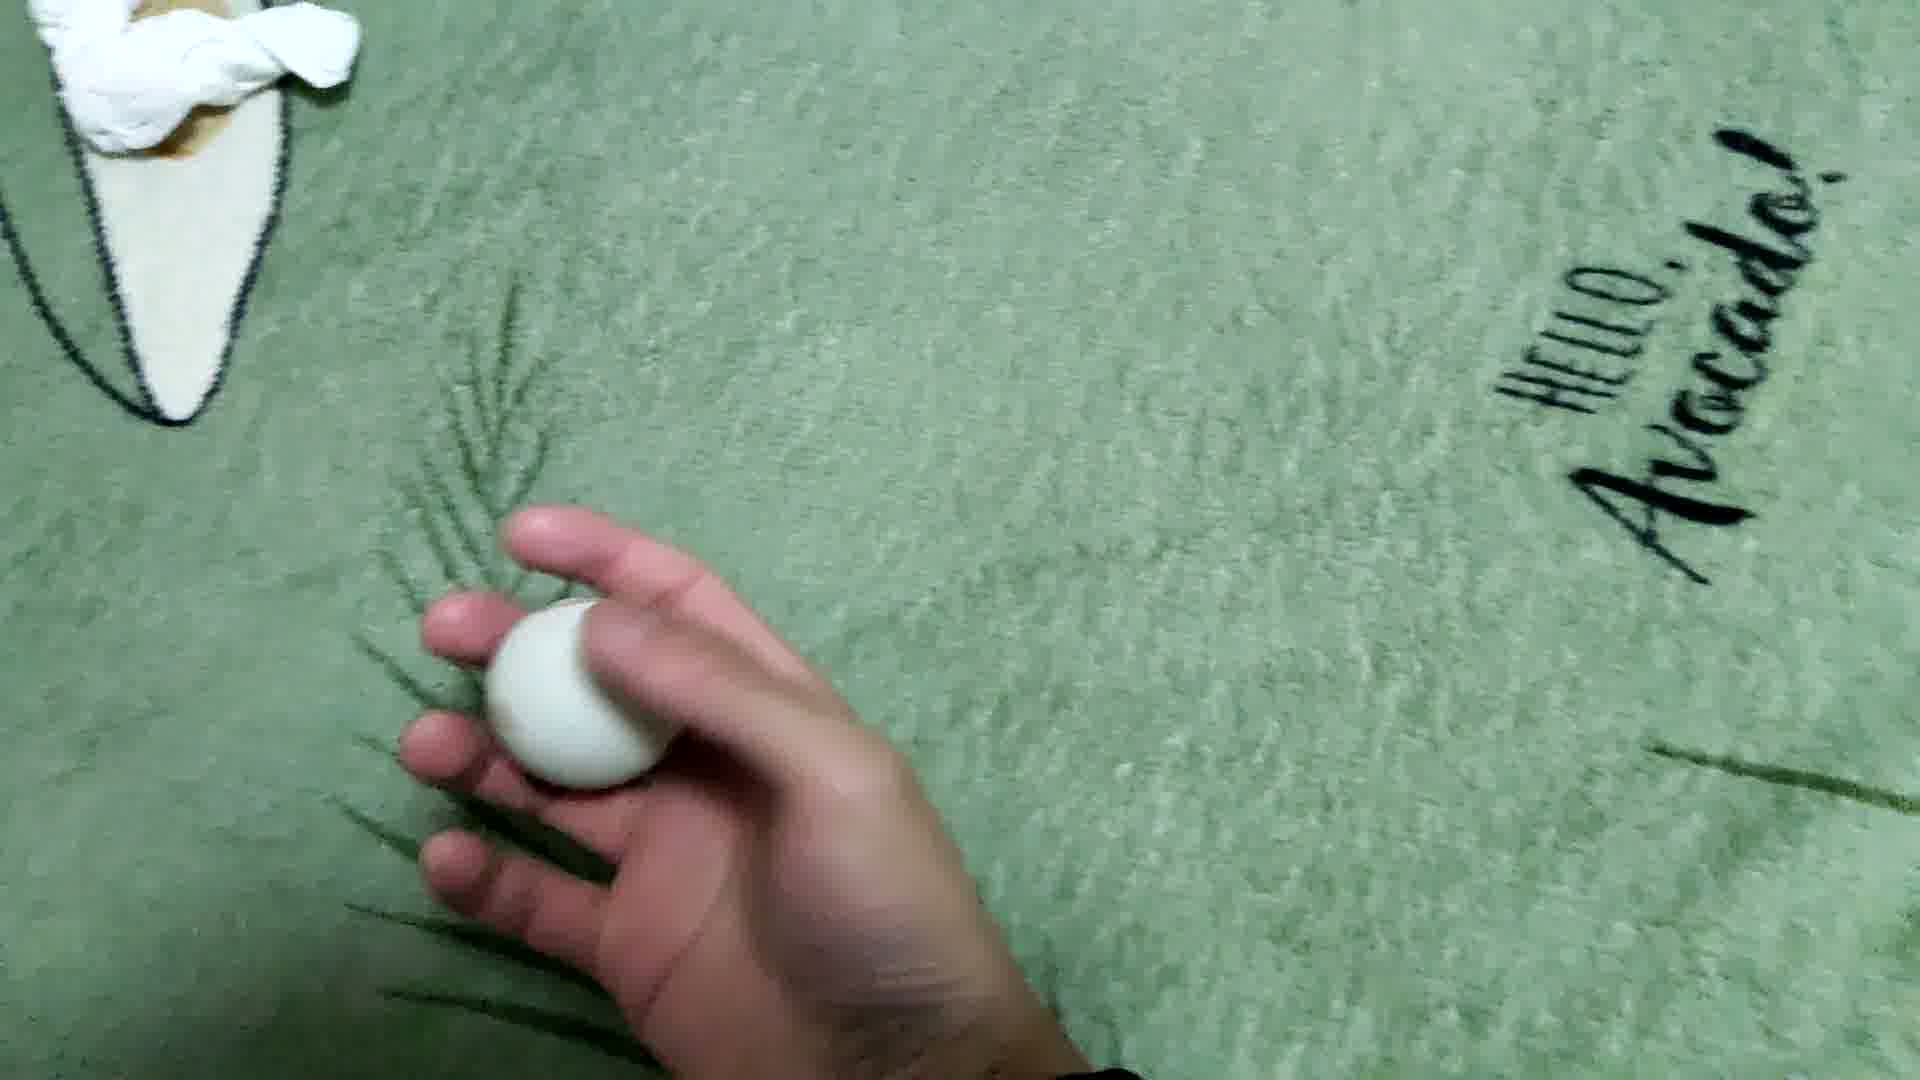Ball: (485, 603, 683, 795)
